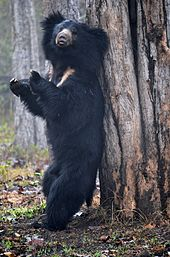bear: (6, 9, 114, 233)
